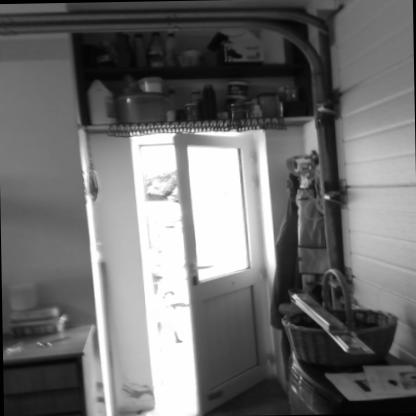semi: (110, 117, 276, 414)
